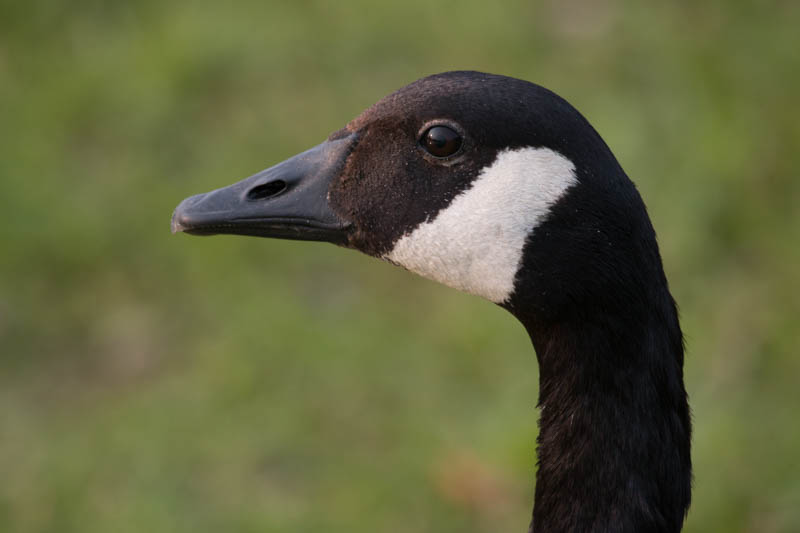goose-head: (169, 70, 652, 320)
